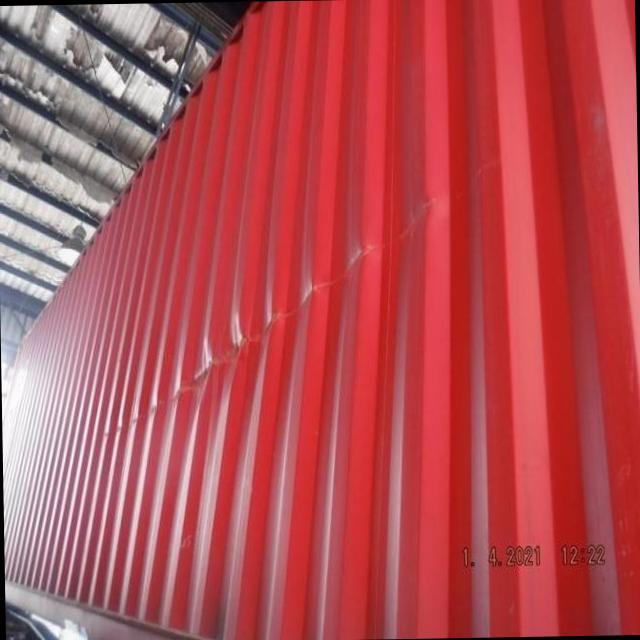Deframe_or_Dent: (138, 226, 384, 432)
